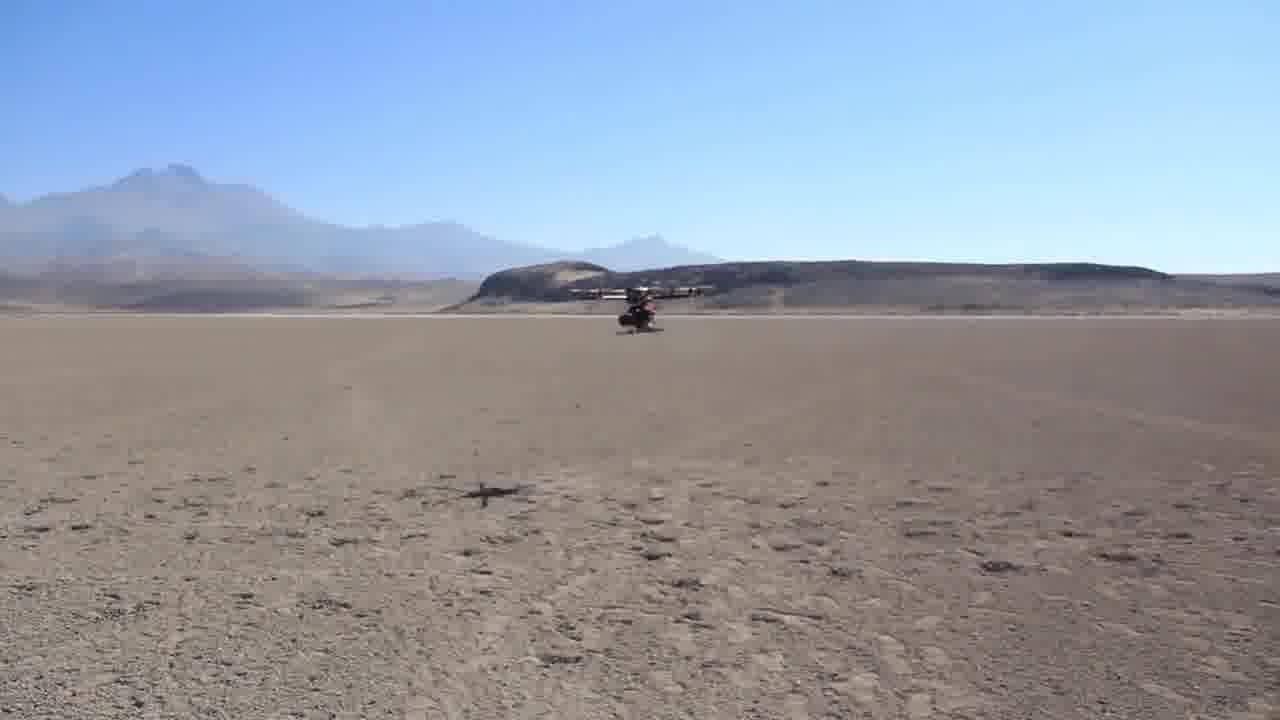drone: (571, 268, 716, 349)
